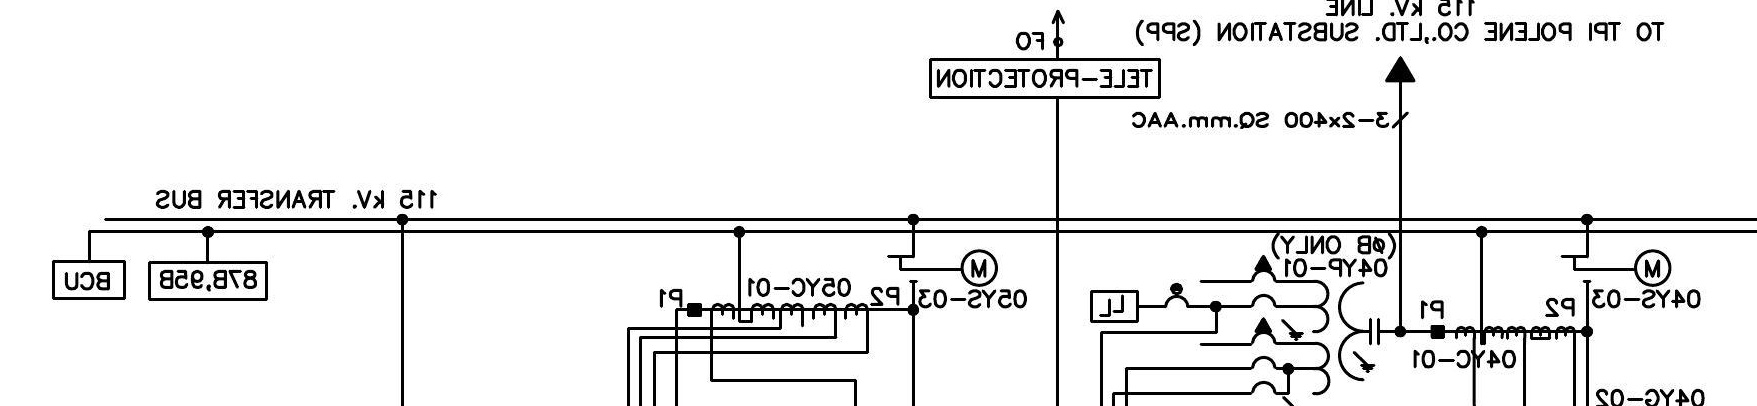115_1way_ds_w_motor: (1560, 248, 1673, 288), (886, 248, 1000, 288)
BCU: (50, 259, 127, 301)
LL: (1089, 289, 1140, 324)
tele_protection: (929, 57, 1162, 100)
